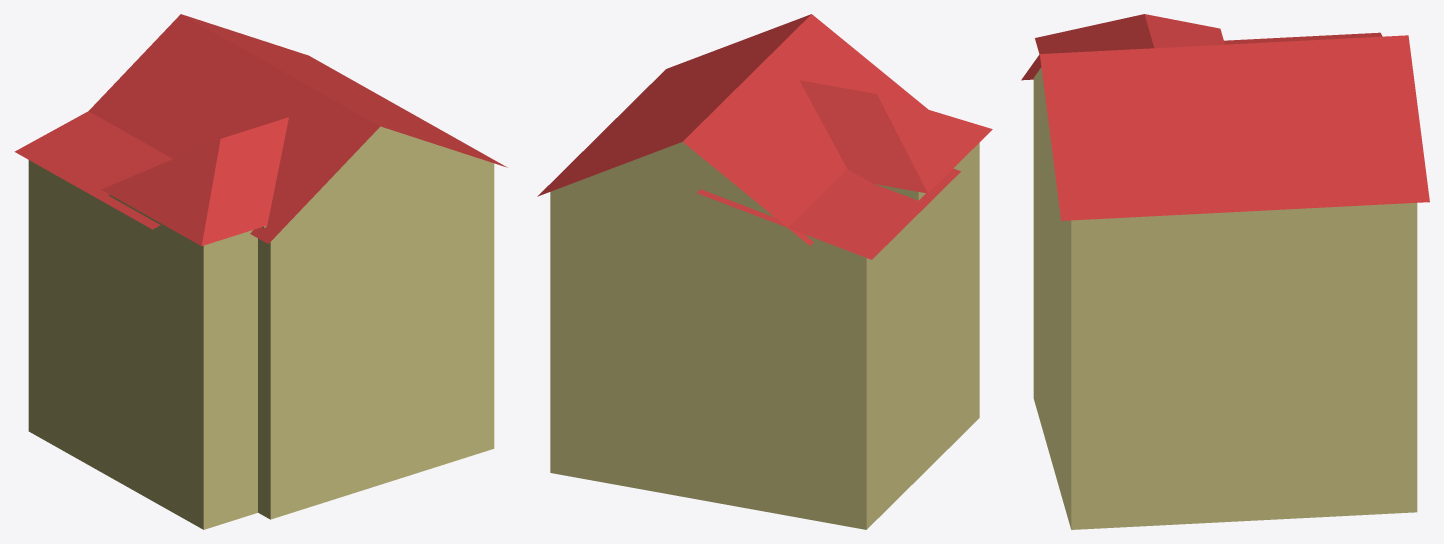
3 renders of one model, left to right at view 1: azimuth 30°, elevation 25°; view 2: azimuth 150°, elevation 25°; view 3: azimuth 270°, elevation 25°, orthographic. The views are drawn at different scales.
Size of the model in its own units: 9.89 by 8.93 by 9.79.
